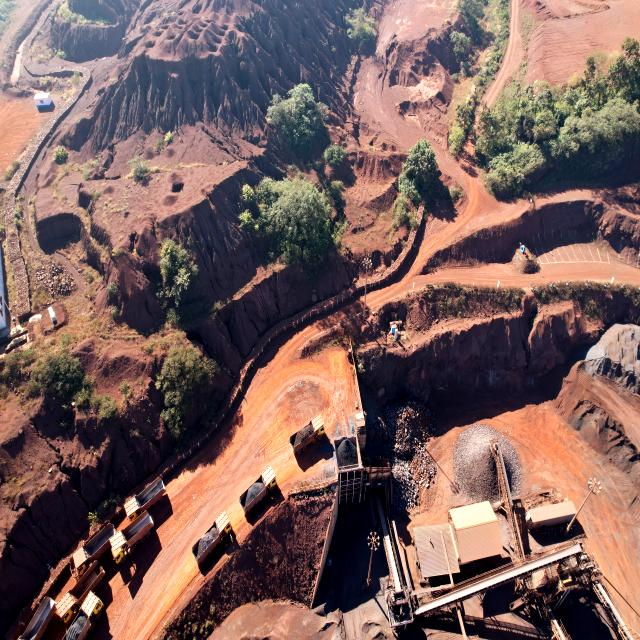Dumper truck: (69, 527, 116, 579), (18, 592, 61, 640), (66, 593, 105, 640), (196, 512, 234, 552), (242, 466, 274, 513), (290, 418, 322, 449), (110, 534, 142, 564), (125, 494, 156, 524)
